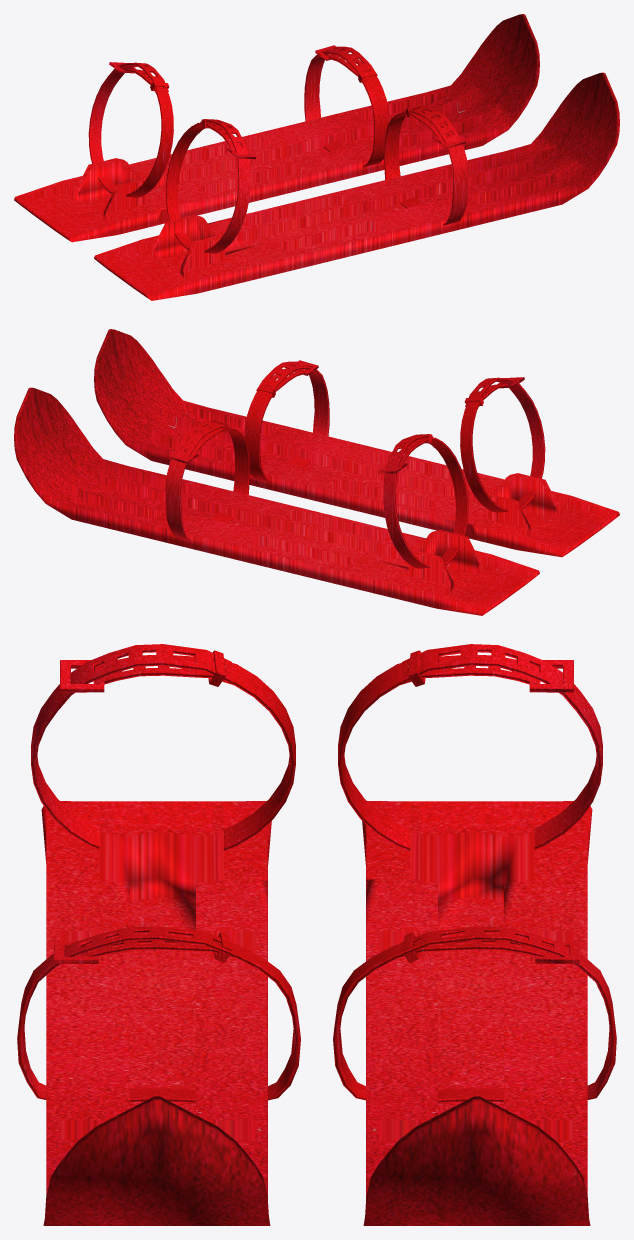
File: ski.obj
3 views of the same model, one above another, from view 1: azimuth 30°, elevation 25°; view 2: azimuth 150°, elevation 25°; view 3: azimuth 270°, elevation 25° (orthographic). The views are drawn at different scales.
Visible parts, largest first — view 1: children's_skis_2; view 2: children's_skis_2; view 3: children's_skis_2.
Part boxes in pixels (x1,y1,x2,y2): children's_skis_2: (14, 14, 619, 300); children's_skis_2: (14, 329, 619, 615); children's_skis_2: (17, 644, 616, 1225).
Bounding box in the file's own units: 23.97 × 6.46 × 12.9.
1 material, 1 textured.
